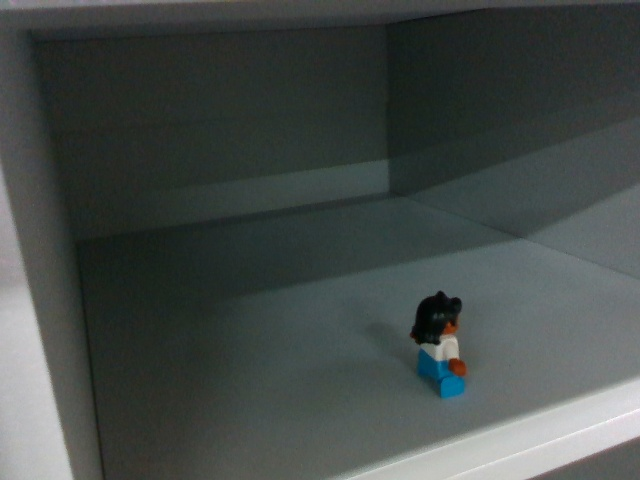people: (410, 288, 473, 403)
